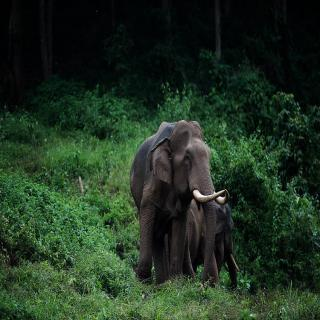Elephant: (125, 117, 229, 288)
